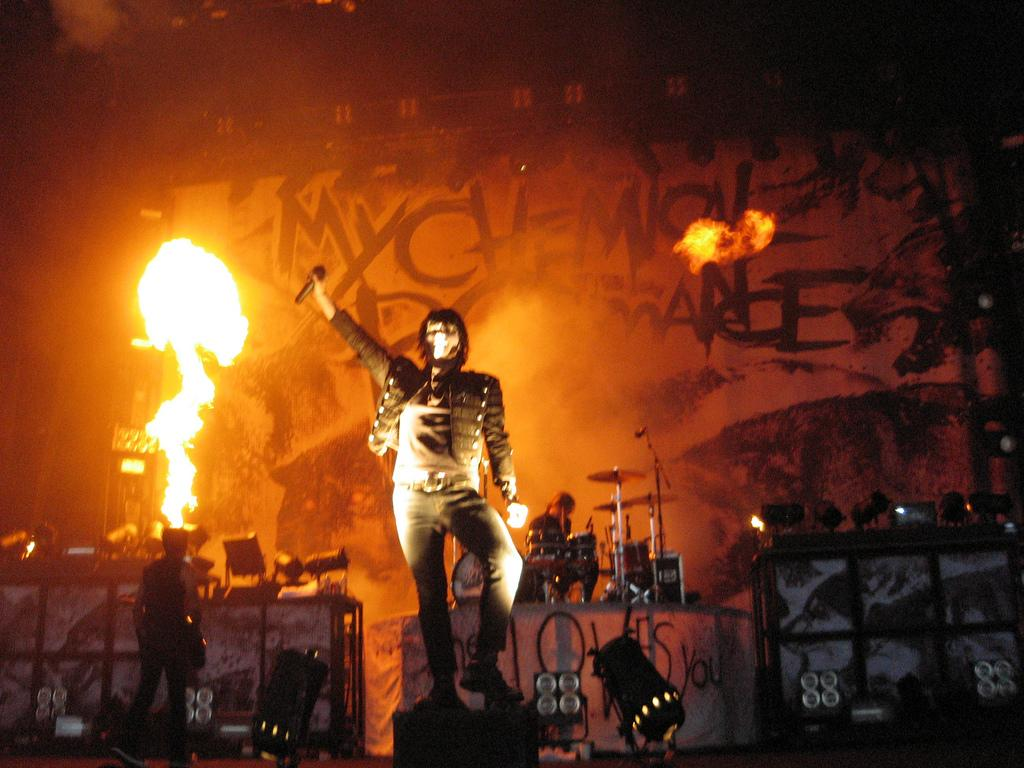fire: (152, 260, 230, 358), (154, 416, 194, 450), (168, 468, 192, 516)
